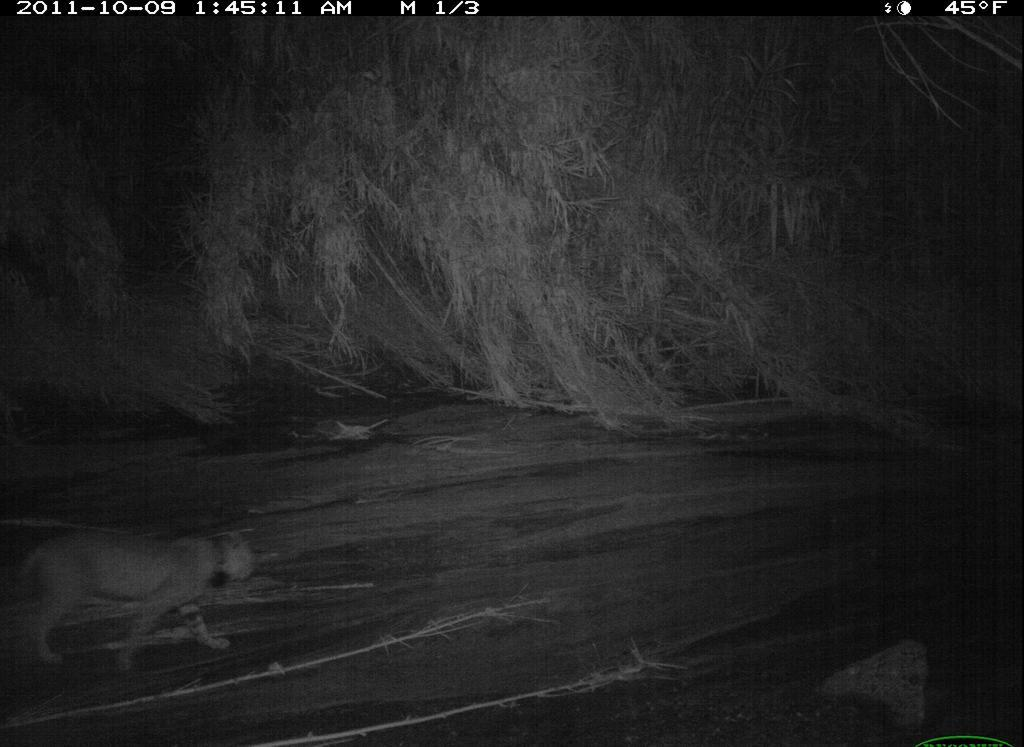bobcat: (11, 519, 268, 679)
